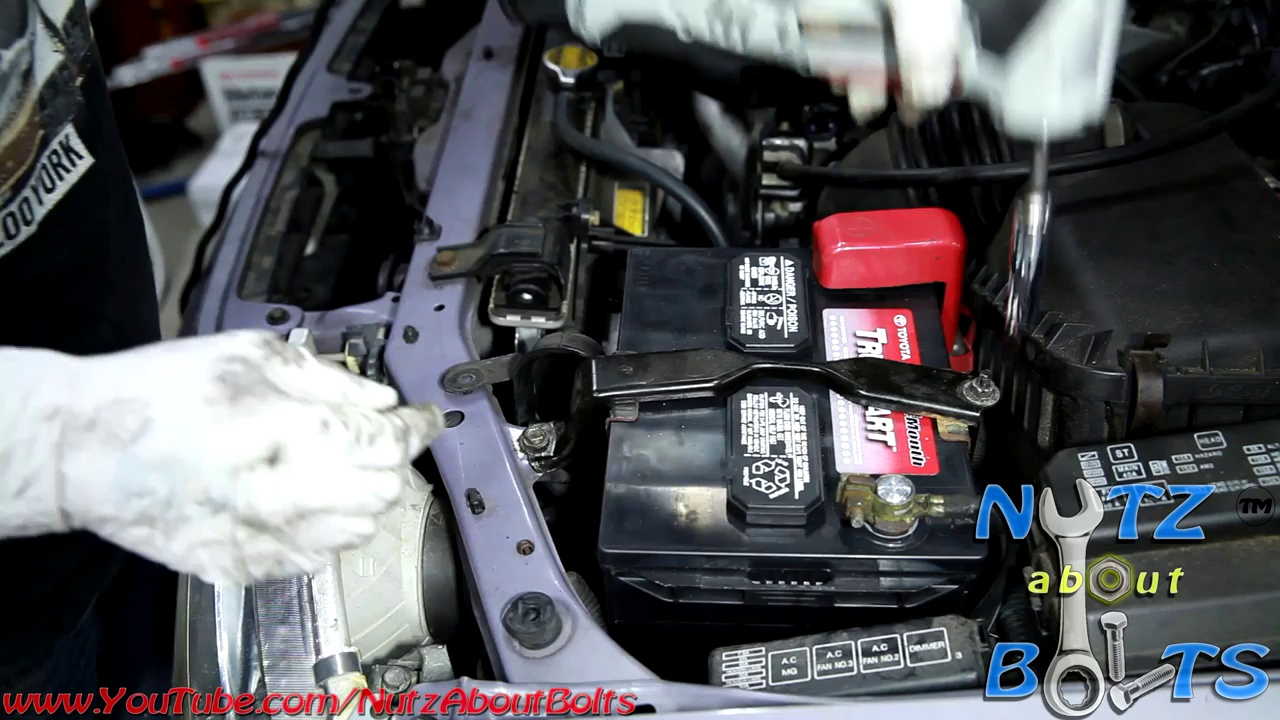battery: (616, 214, 986, 591)
neg_connected: (820, 459, 976, 547)
pos_connected: (795, 203, 968, 333)
